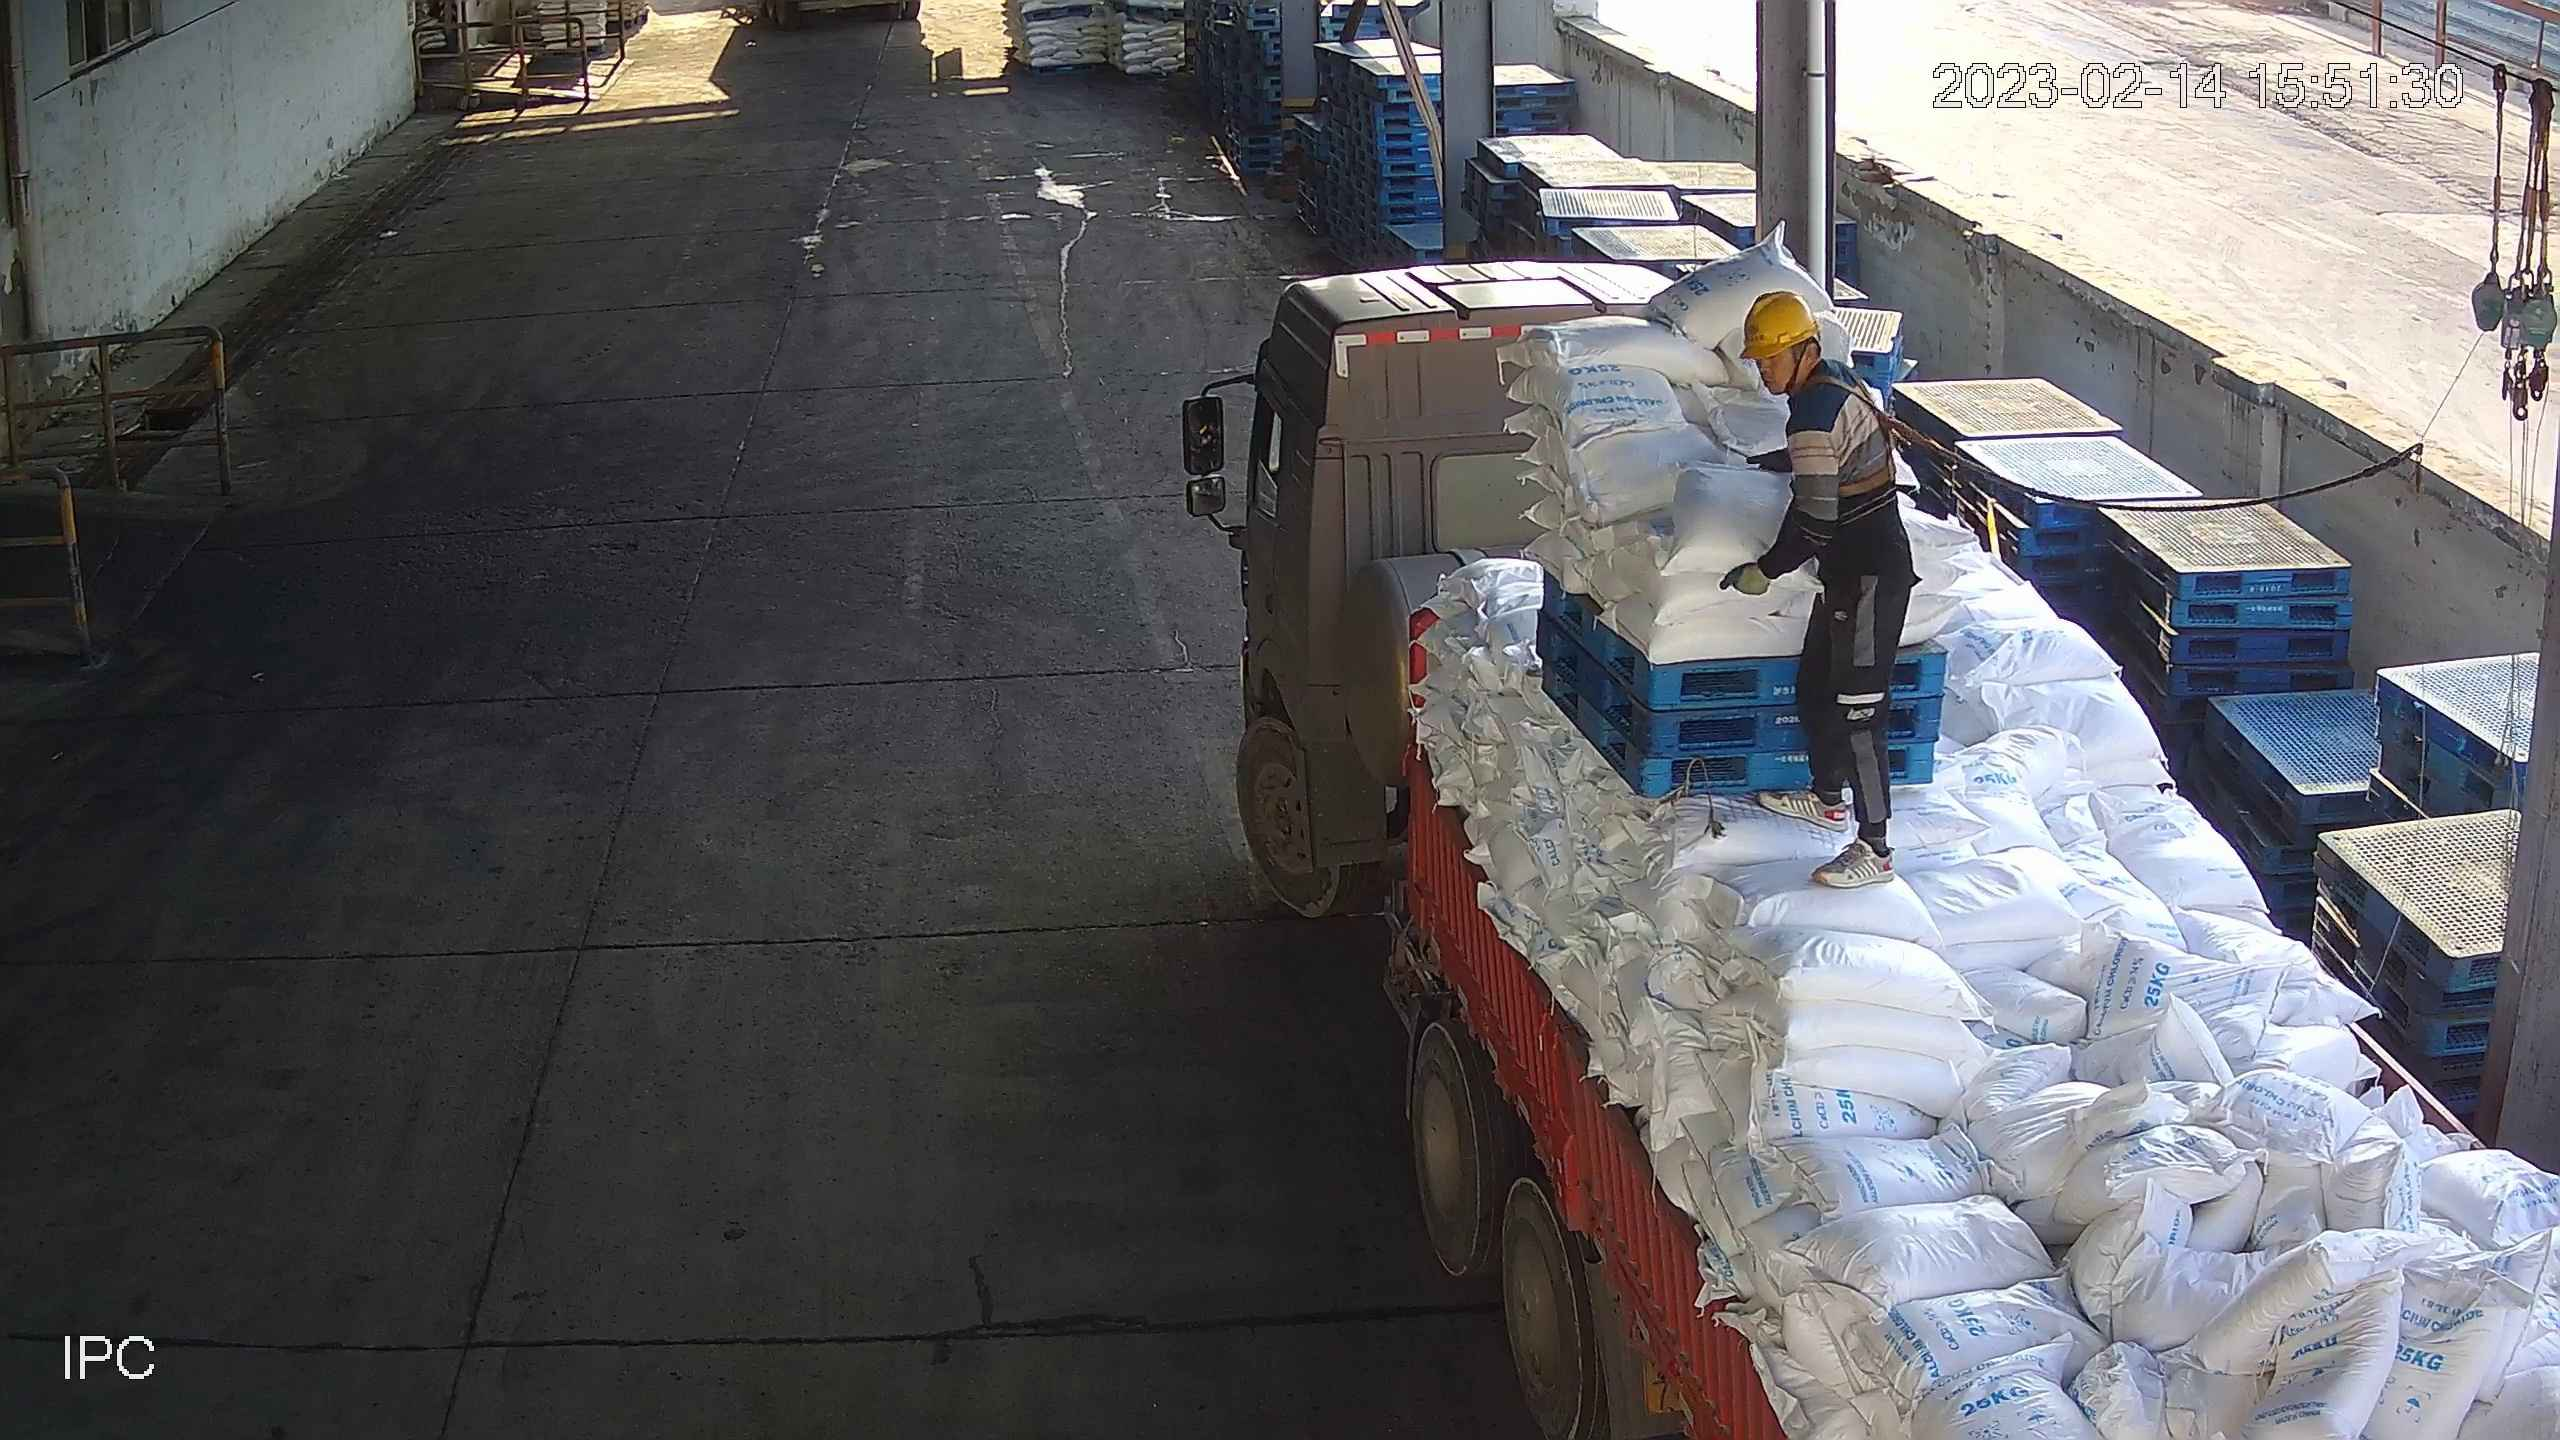belt: (1782, 358, 1920, 493)
head: (1740, 289, 1890, 445)
helmet: (1739, 289, 1822, 359)
people: (1716, 290, 1923, 887)
truck: (1234, 255, 2560, 1440)
